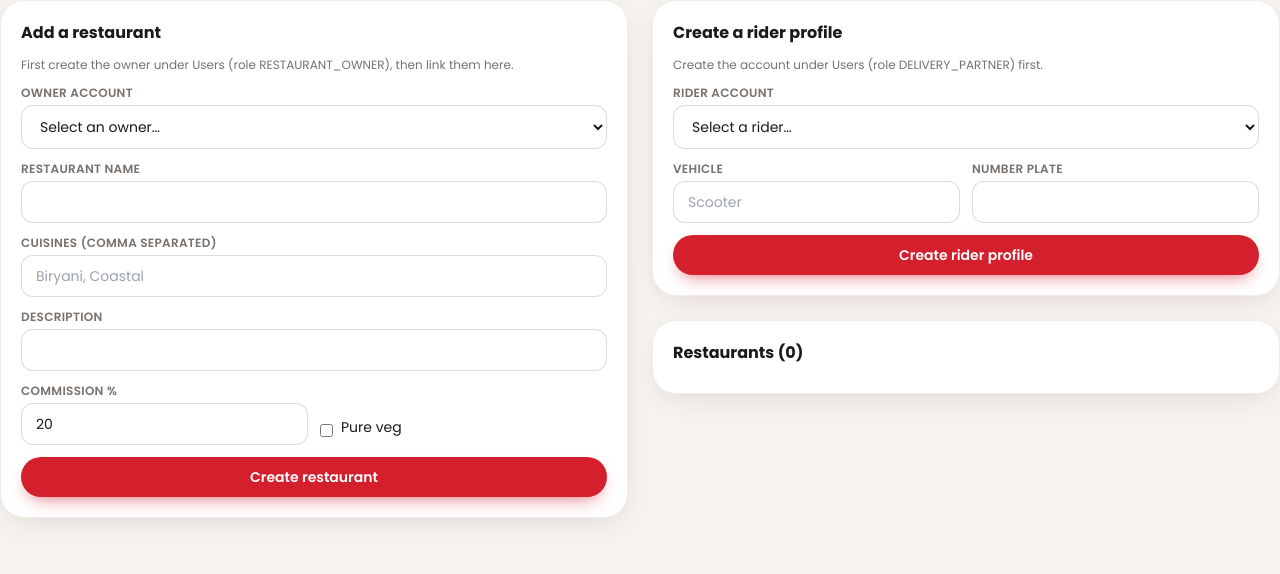
admin partners onboarding › creates a restaurant with the commission converted from percent to a rate
The width and height of the screenshot is (1280, 574).
Select "Tariq (t@z.com)" in the dropdown labelled "Owner account" at coordinates (314, 127), box [21,105,607,149]
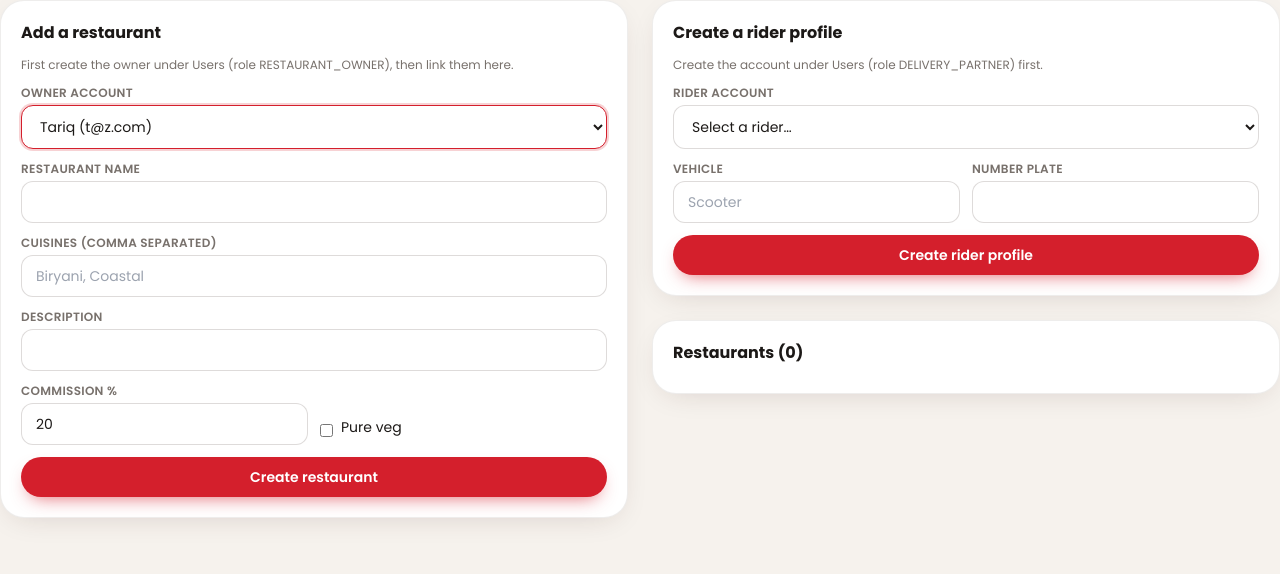
Type "Coastal Bites" into the field labelled "Restaurant name".
click(314, 202); type("Coastal Bites")  # box [21,181,607,223]
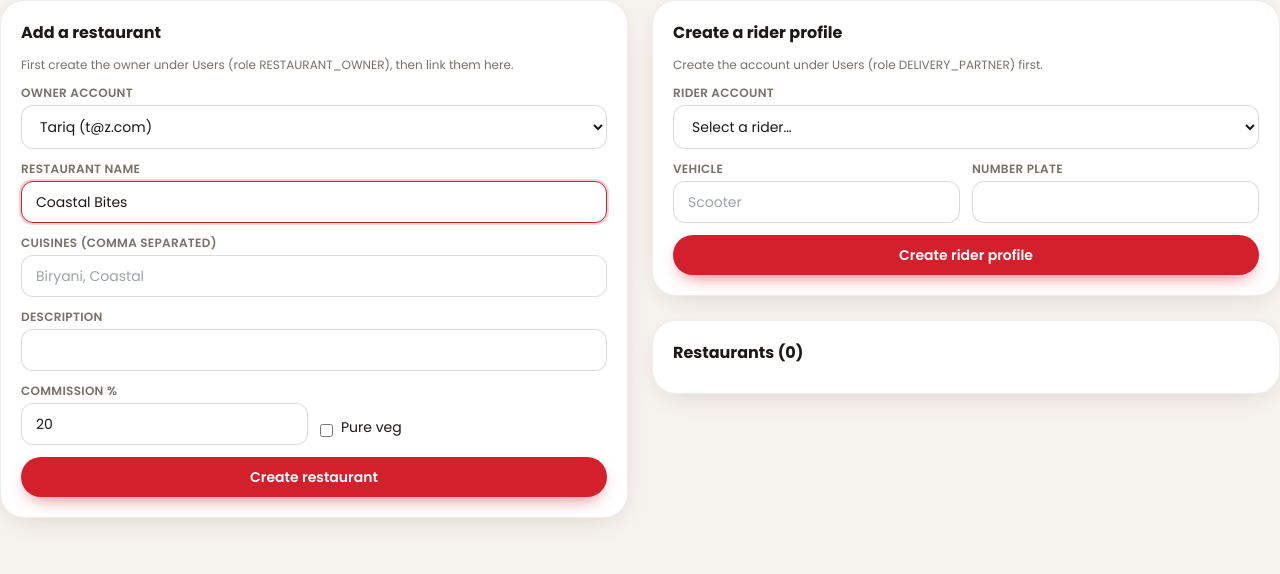
Replace the text in the field labelled "Commission %" with "15" at coordinates (164, 424), box [21,403,308,445]
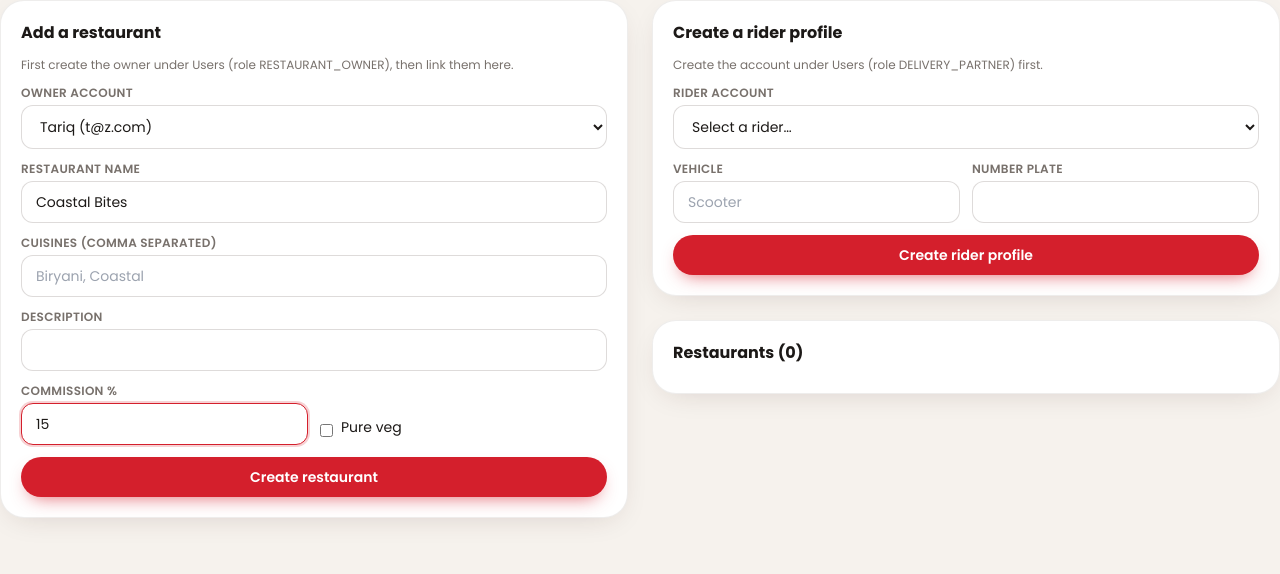
Click the button "Create restaurant".
click(314, 477)  # box [21,457,607,497]
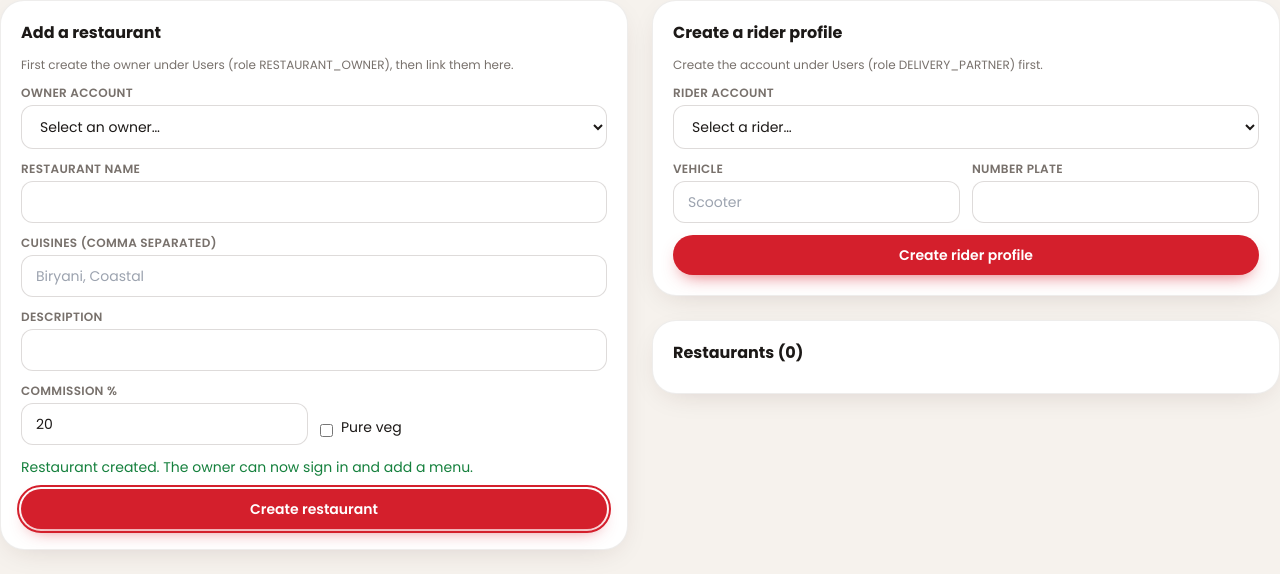
Now the text "Restaurant created" is shown, box [21,457,473,477]
